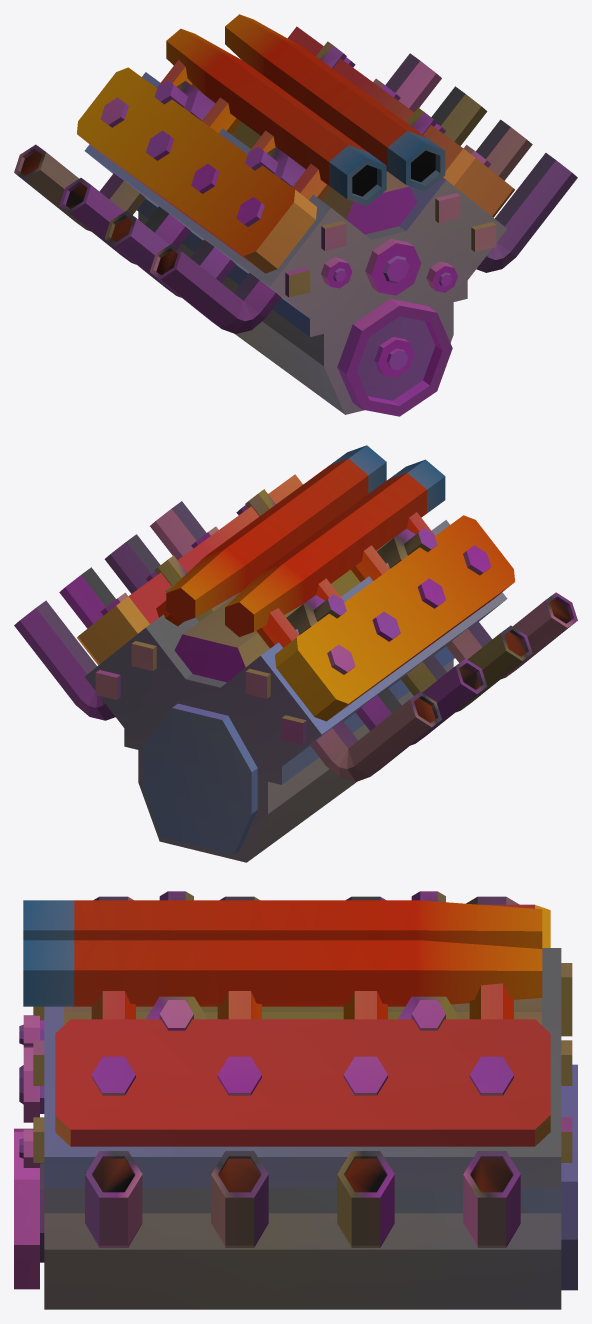
Rendered from EngineLvl4.fbx.
3 renders of one model, top to bottom at view 1: azimuth 30°, elevation 25°; view 2: azimuth 150°, elevation 25°; view 3: azimuth 270°, elevation 25°, orthographic. The views are drawn at different scales.
Visible parts, largest first — view 1: engine_lvl4; view 2: engine_lvl4; view 3: engine_lvl4.
Part boxes in pixels (bbox=[...]): engine_lvl4: bbox=[14, 14, 577, 416]; engine_lvl4: bbox=[14, 445, 577, 862]; engine_lvl4: bbox=[14, 891, 577, 1309].
Bounding box in the file's own units: 1.92 × 1.15 × 1.61.
